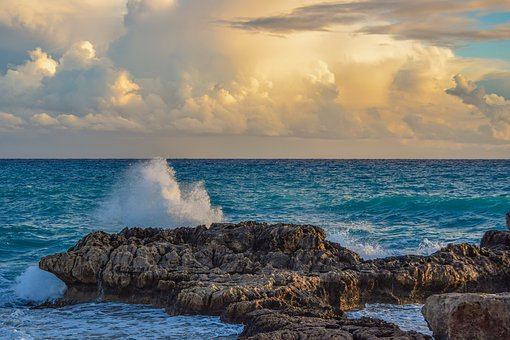sea: (9, 160, 504, 332)
sky: (5, 2, 504, 157)
